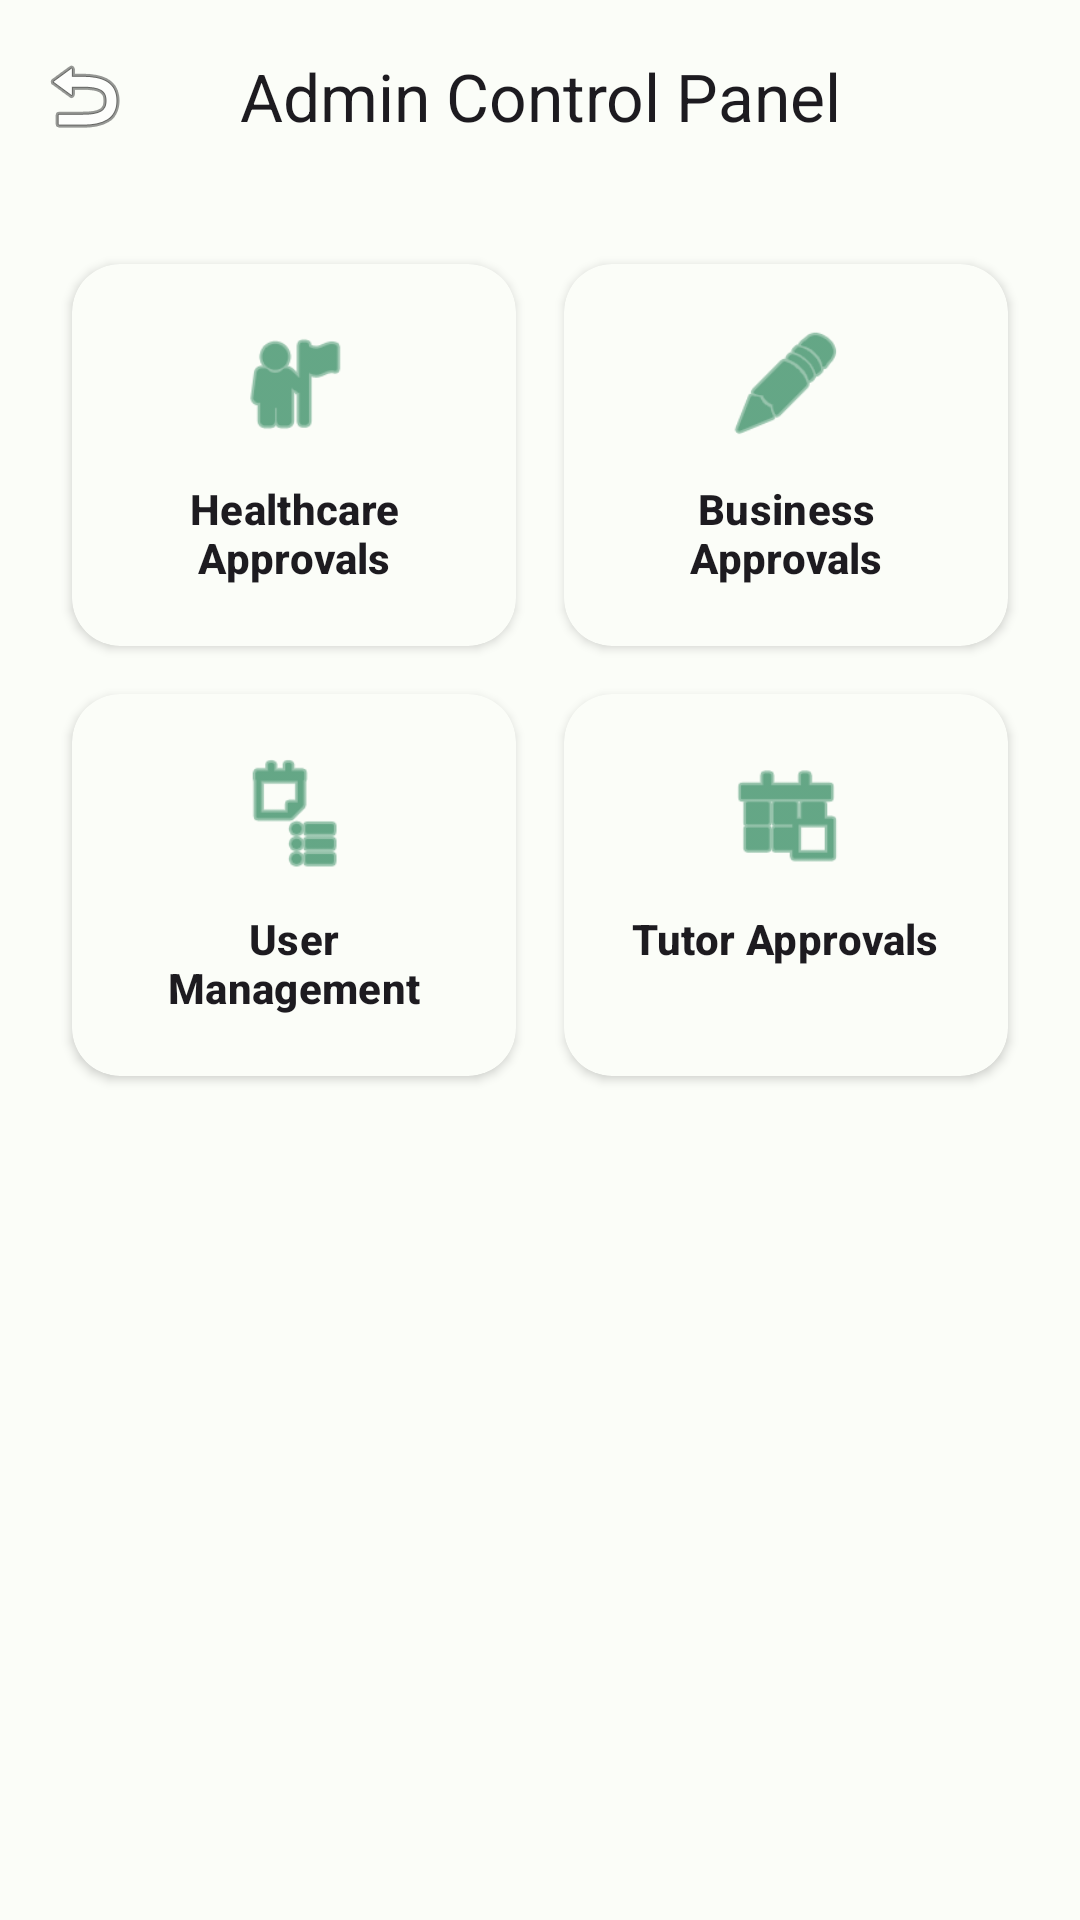

Icons on this 1080x1920 Android screen, each with its box as (x1, y1, x2, y2):
edit: (735, 332, 836, 434)
